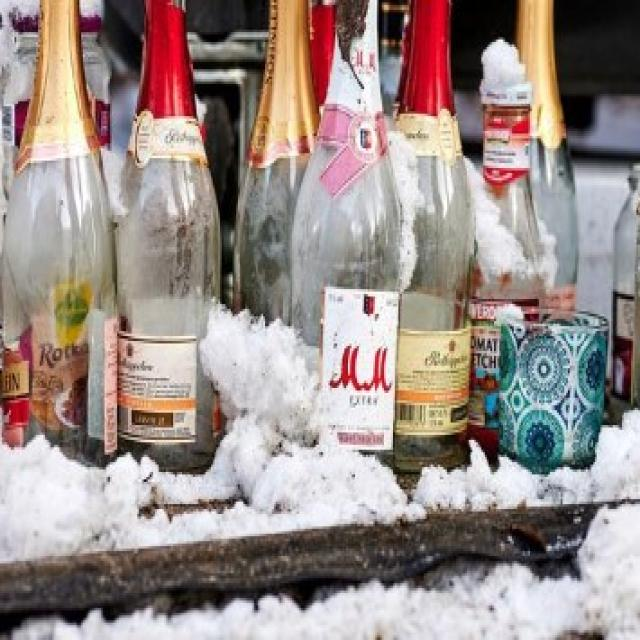electronic: (0, 0, 638, 512)
